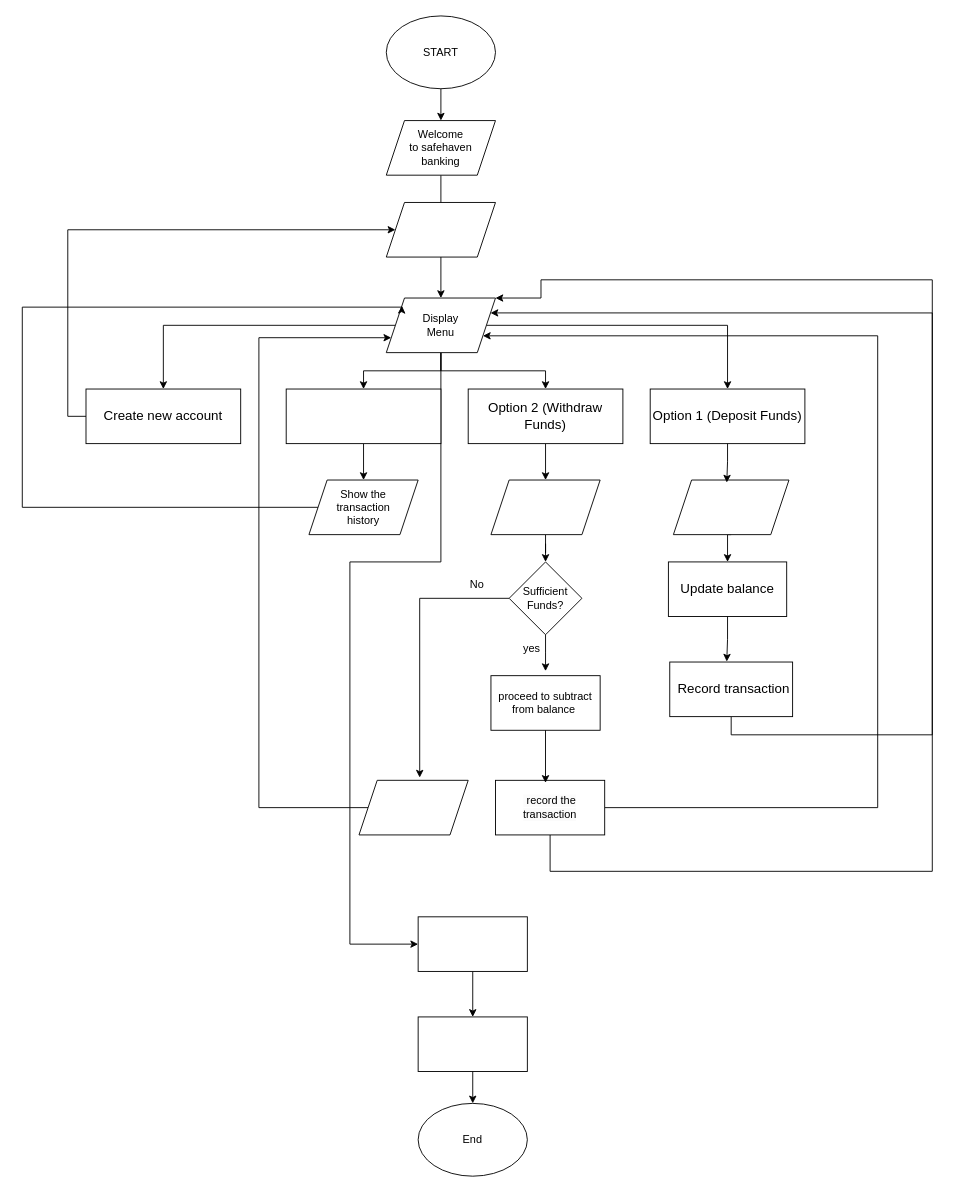
This 956x1192 diagram has some shape labels left out. Here are the shapes that lost their labels. From the top down, the box of each, then its label:
(385, 202, 495, 257): Ask for user name
(285, 388, 441, 444): Option 3 (Check Transactions)
(490, 479, 600, 535): Ask for withdrawal amount
(672, 479, 789, 535): Ask for deposit amount
(358, 779, 468, 835): show Error Message
(417, 916, 527, 971): Close Program
(417, 1016, 527, 1072): Auto Print Receipt
